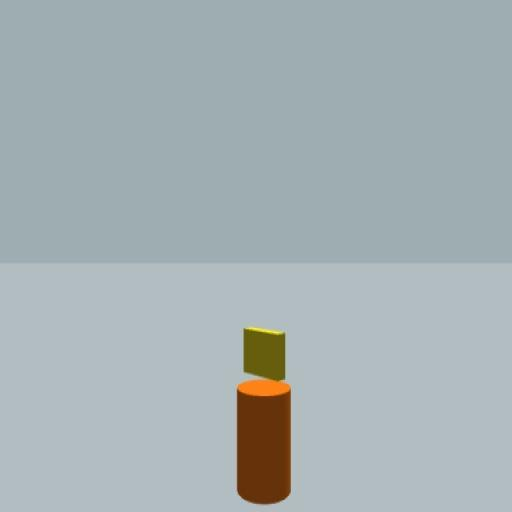buoy: (236, 324, 292, 504)
